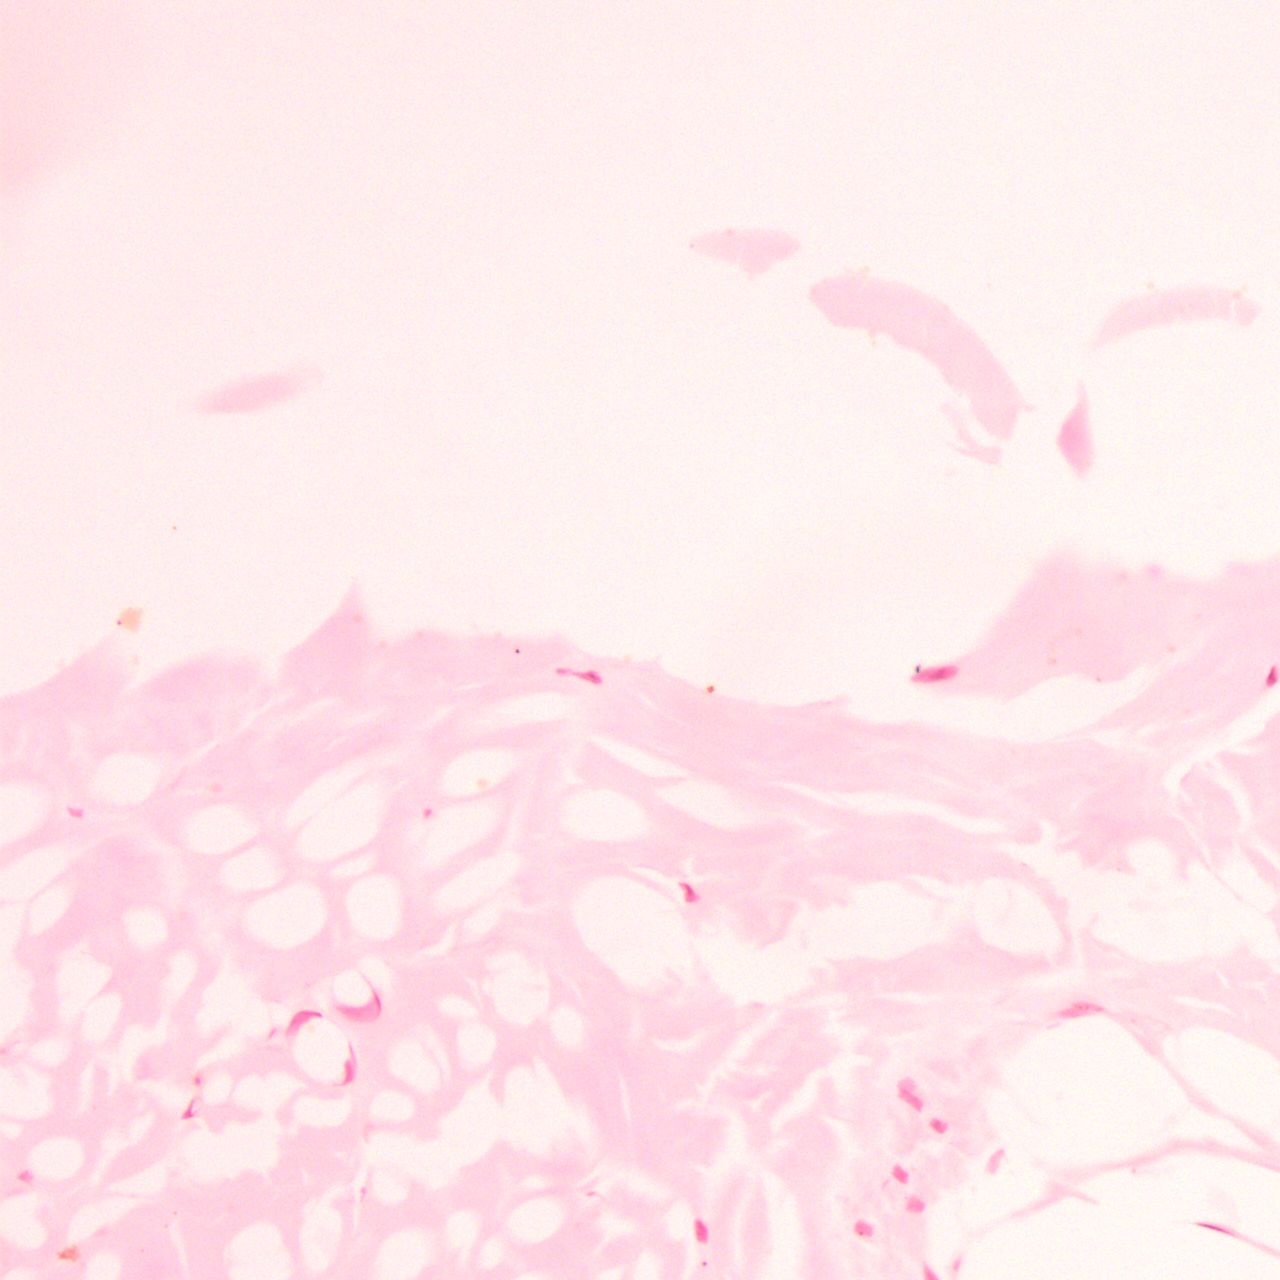dust: (914, 663, 921, 674), (706, 685, 715, 692), (515, 648, 520, 653)
nucleus-AC: (892, 1074, 932, 1115), (911, 659, 960, 689), (1051, 996, 1107, 1021), (553, 662, 604, 685), (887, 1160, 913, 1189), (1189, 1219, 1232, 1235), (181, 1094, 203, 1123), (679, 879, 701, 903), (903, 1194, 926, 1213), (694, 1217, 709, 1244), (14, 1167, 35, 1186), (928, 1116, 947, 1133), (853, 1219, 872, 1235), (64, 805, 84, 819), (1265, 663, 1278, 685), (423, 806, 433, 819), (193, 1071, 202, 1085)
